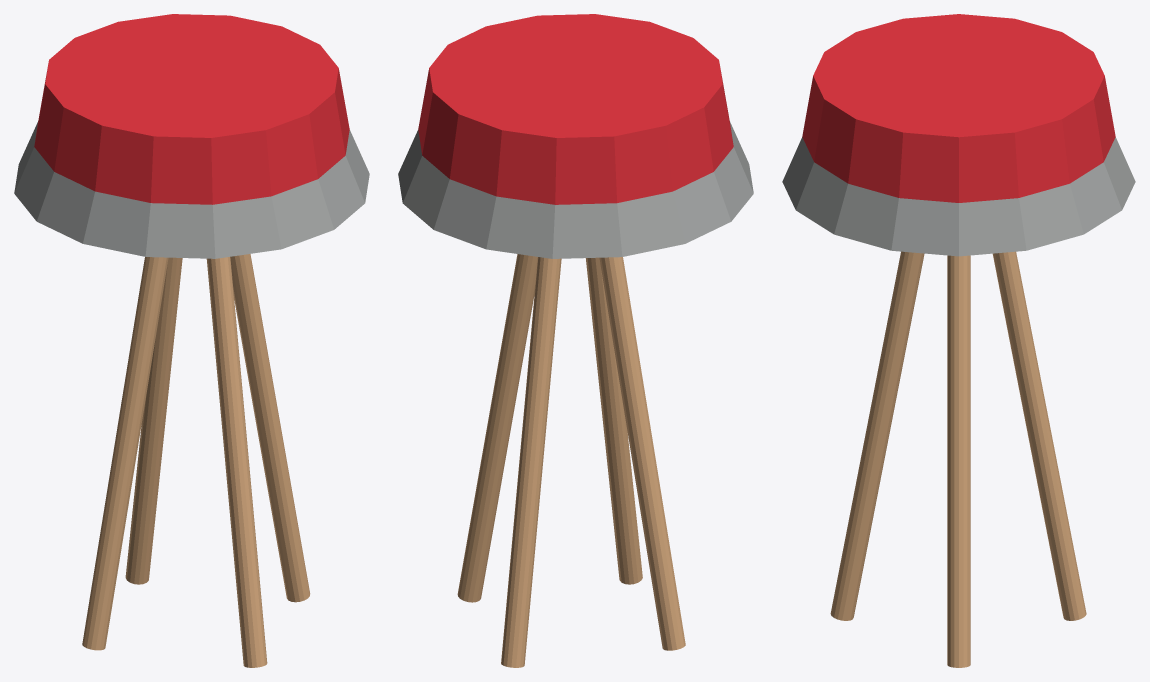
Rendered from CheapTable.fbx.
3 views of the same model, side by side, from view 1: azimuth 30°, elevation 25°; view 2: azimuth 150°, elevation 25°; view 3: azimuth 270°, elevation 25° (orthographic).
Visible parts, largest first — view 1: Cheap_Table; view 2: Cheap_Table; view 3: Cheap_Table.
Part boxes in pixels (bbox=[...]): Cheap_Table: bbox=[14, 14, 369, 667]; Cheap_Table: bbox=[398, 14, 753, 667]; Cheap_Table: bbox=[782, 14, 1135, 667].
Bounding box in the file's own units: 120 × 203 × 120.
